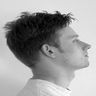ear: (35, 36, 62, 64)
